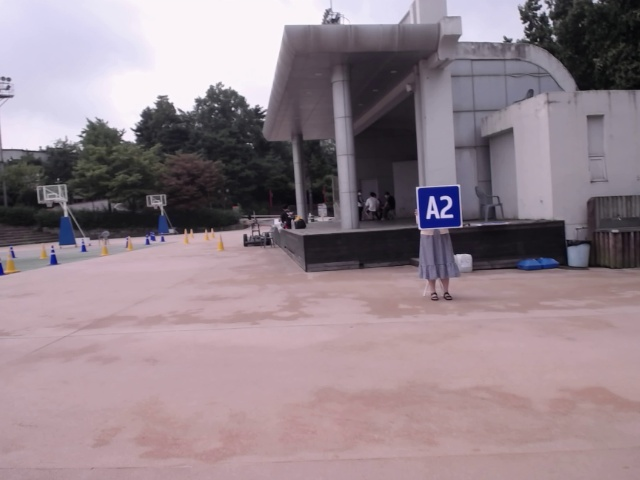delivery_a2: (416, 186, 462, 229)
